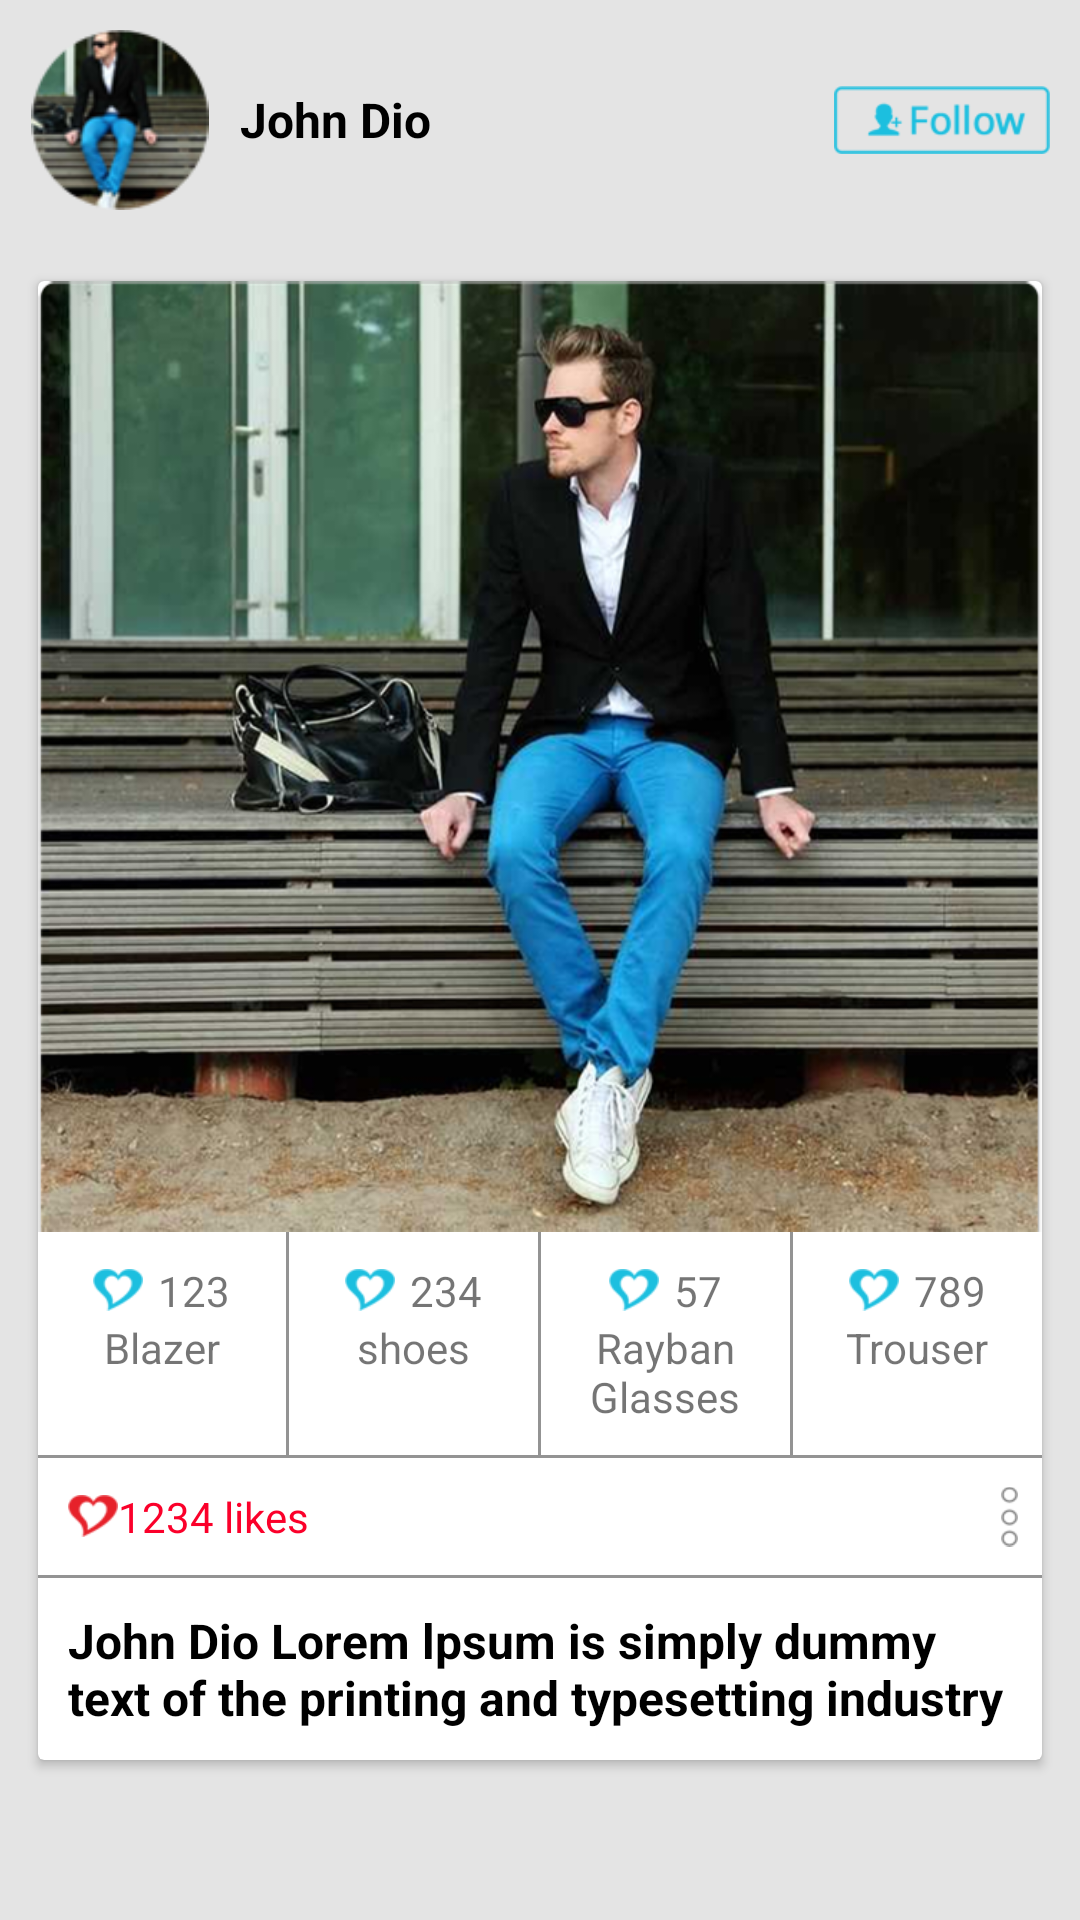

Icon click points for this 1080w x 1920h phone screenshot, format (x,y):
three dots: (1009,1517)
